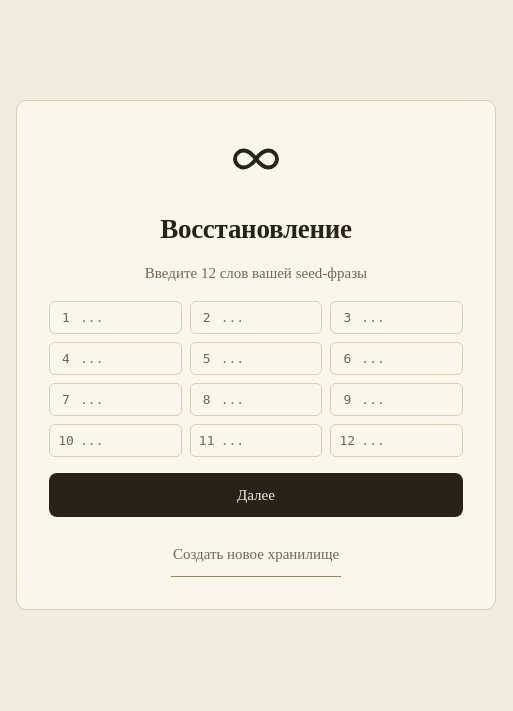
Test: Restore — the PIN offer › the phrase leads to the PIN step when no PIN is configured
In the field named "Слово 1 из 12": [126, 318] box [80,306,173,329], type "alpha bravo charlie delta echo foxtrot golf hotel india juliet kilo lima"
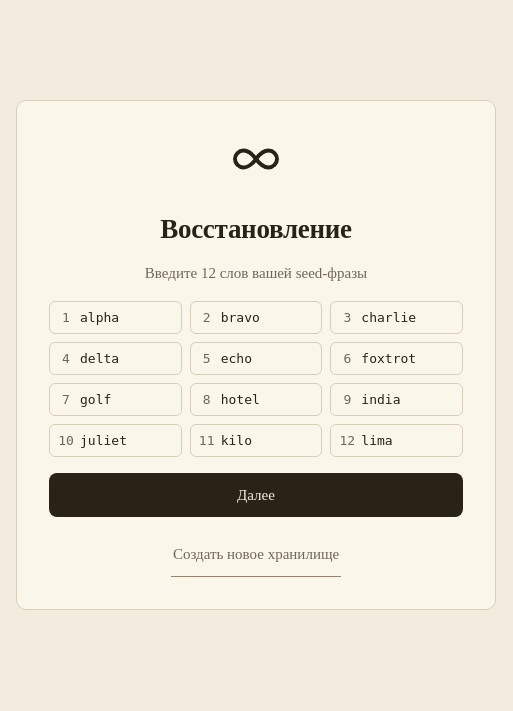
Click the button "Далее": [256, 495] box [49,473,463,517]
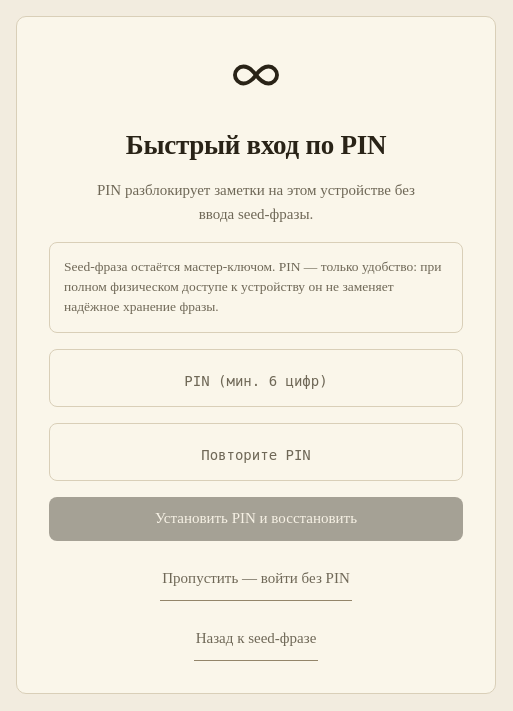
Expected: the heading "Быстрый вход по PIN" is shown, [126,129,386,162]
